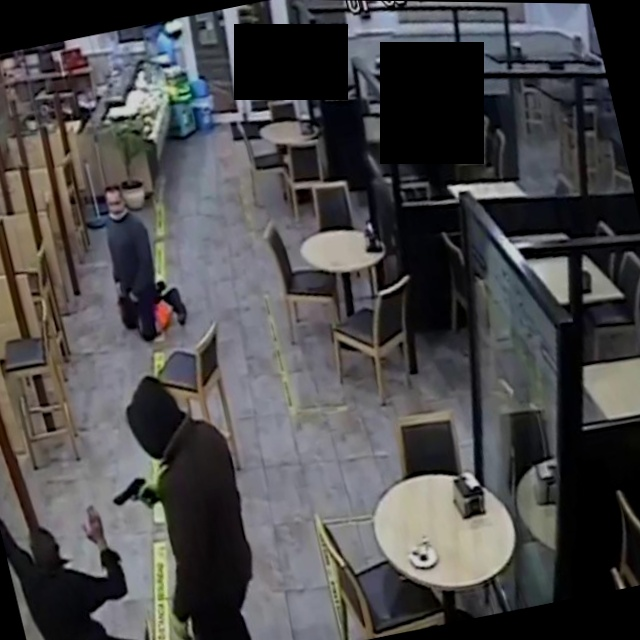gun: (94, 462, 166, 533)
